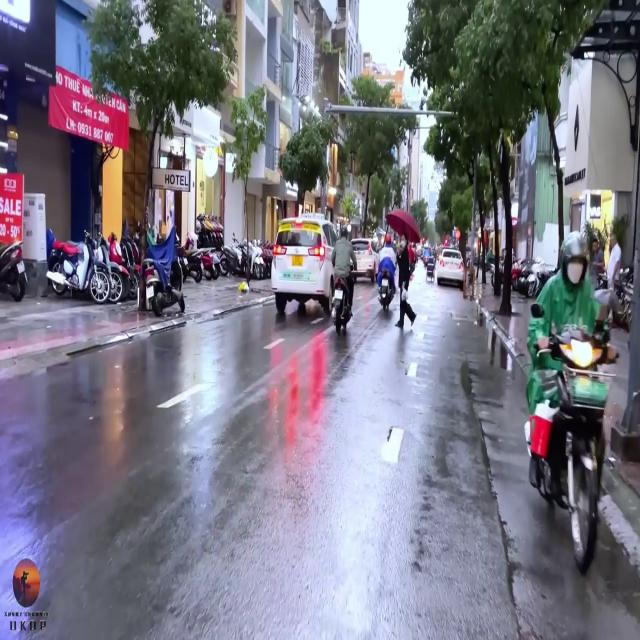bien_vang: (290, 251, 304, 268)
